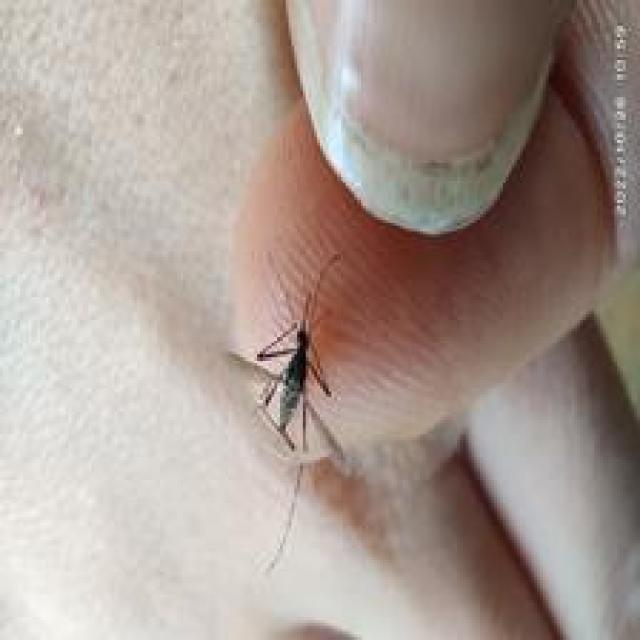Aedes albopictus: (226, 252, 357, 574)
